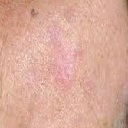Actinic: (25, 27, 82, 89)
